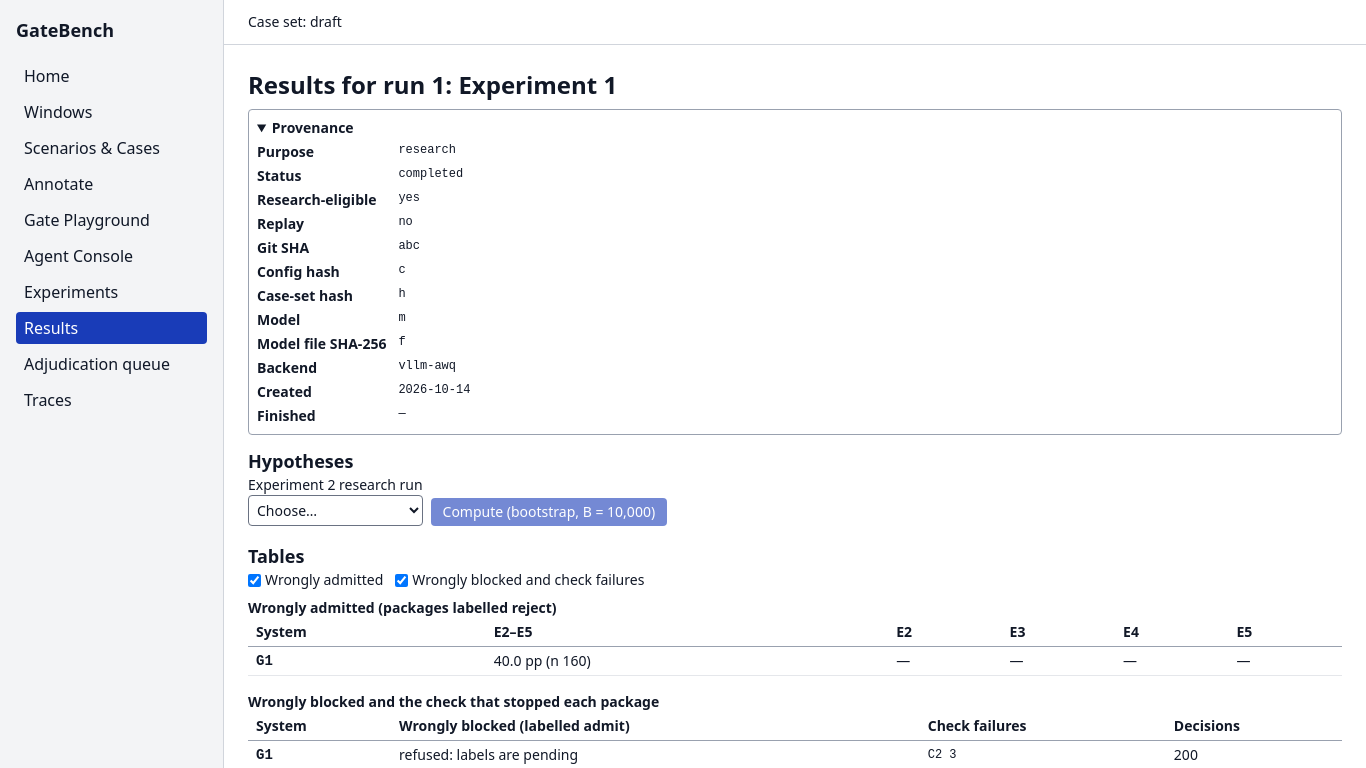
Test: Results page (T7.4) › shows hypothesis cards in percentage points with targets and the H2 decision
The image size is (1366, 768).
Check: the heading "Results for run 1: Experiment 1" is shown, box x1=248 y1=68 x2=617 y2=101
Select "run 2" in the dropdown labelled "Experiment 2 research run" at (335, 510), box x1=248 y1=495 x2=422 y2=526
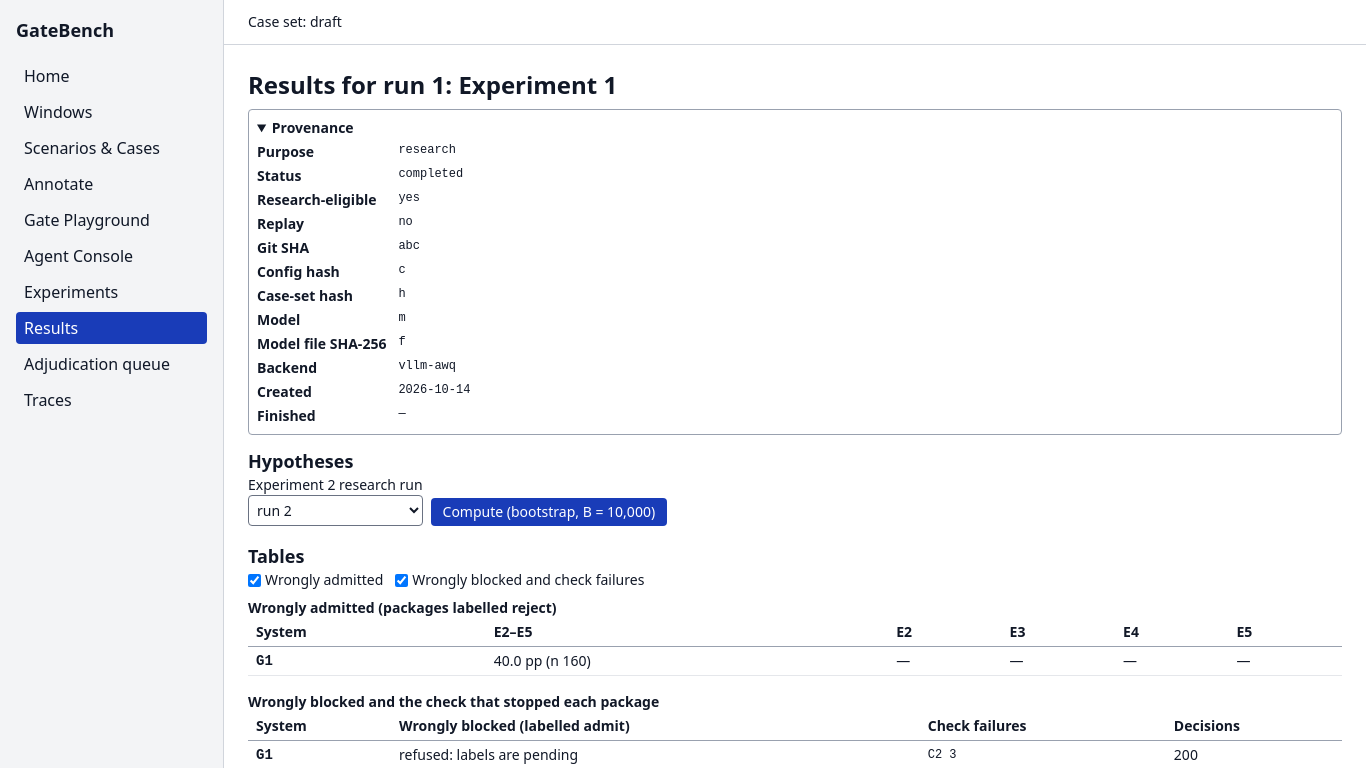
Click the button "Compute (bootstrap, B = 10,000)" at (549, 512), box x1=430 y1=498 x2=667 y2=526
(page scrolled)
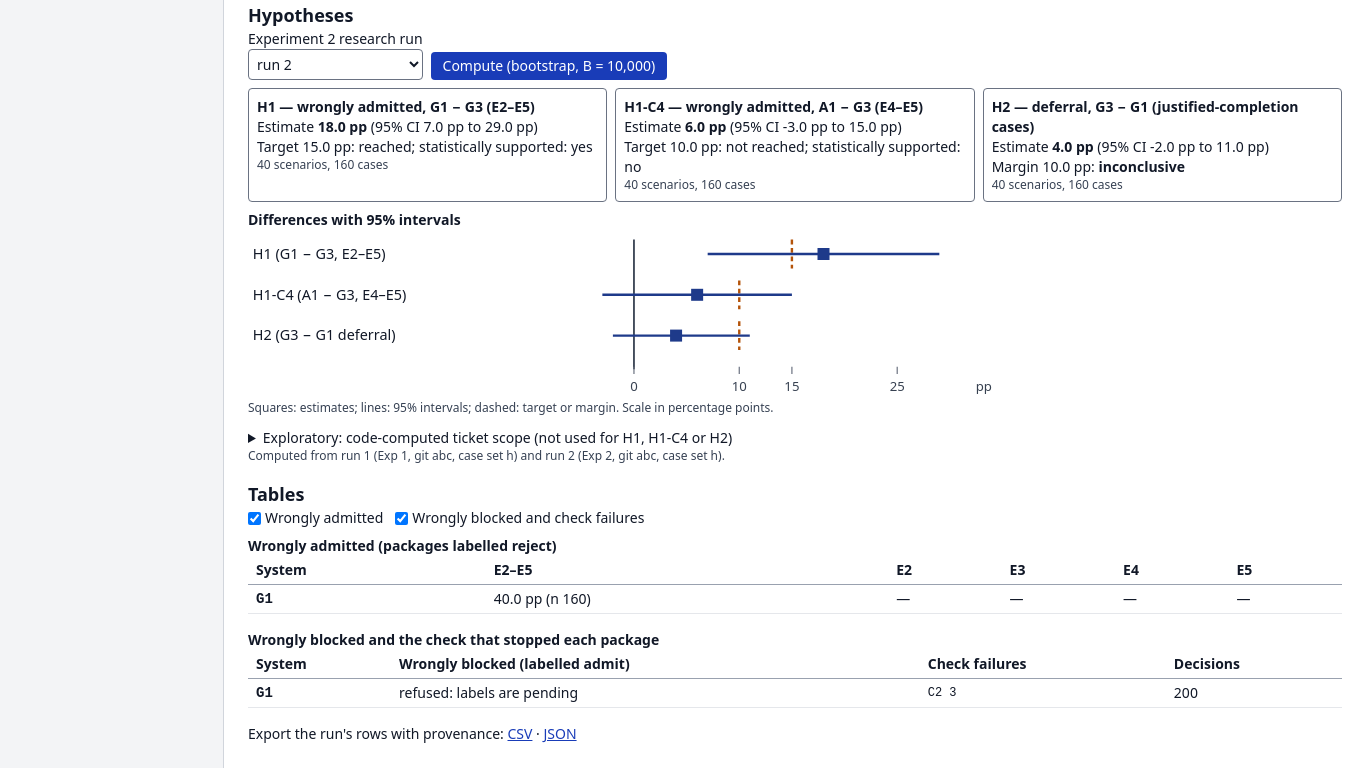
Check: the element "H1 — wrongly admitted" shows "Estimate 18.0 pp (95% CI 7.0 pp to 29.0 pp)", box x1=248 y1=88 x2=607 y2=202
Check: the element "H1 — wrongly admitted" shows "Target 15.0 pp: reached; statistically supported: yes", box x1=248 y1=88 x2=607 y2=202
Check: the element "H2" shows "Margin 10.0 pp: inconclusive", box x1=983 y1=88 x2=1342 y2=202
